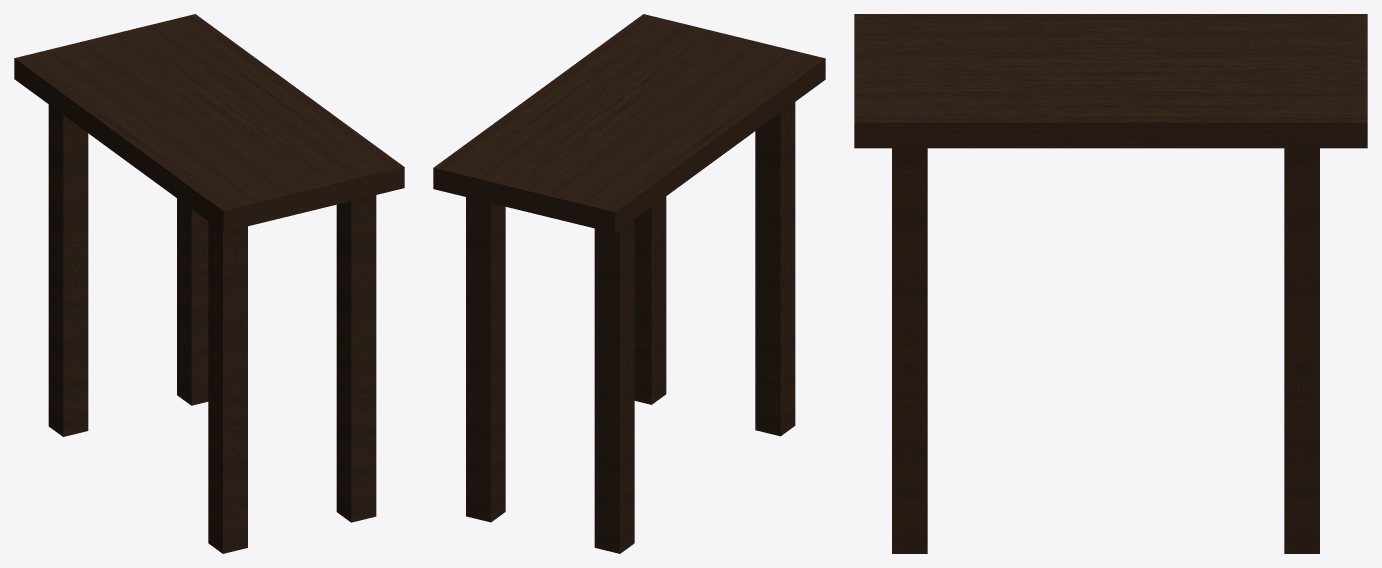
File: tall_table.dae
3 views of the same model, side by side, from view 1: azimuth 30°, elevation 25°; view 2: azimuth 150°, elevation 25°; view 3: azimuth 270°, elevation 25° (orthographic). The views are drawn at different scales.
Visible parts, largest first — view 1: Cube_001, Cube; view 2: Cube_001, Cube; view 3: Cube_001, Cube.
Part boxes in pixels (x1,y1,x2,y2): Cube_001: (14, 14, 404, 232); Cube: (48, 104, 376, 553); Cube_001: (433, 14, 825, 233); Cube: (466, 102, 795, 553); Cube_001: (854, 14, 1367, 148); Cube: (892, 148, 1319, 553).
Bounding box in the file's own units: 1.8 × 3.6 × 3.4.
2 materials, 2 textured.
